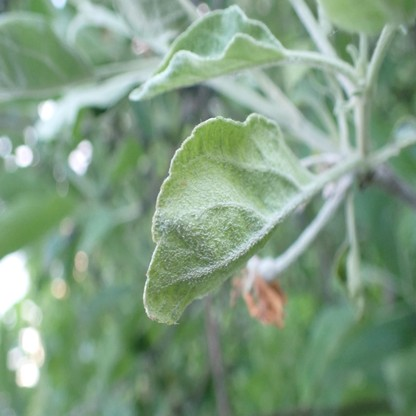powdery_mildew: (143, 113, 315, 321), (130, 4, 287, 102)
